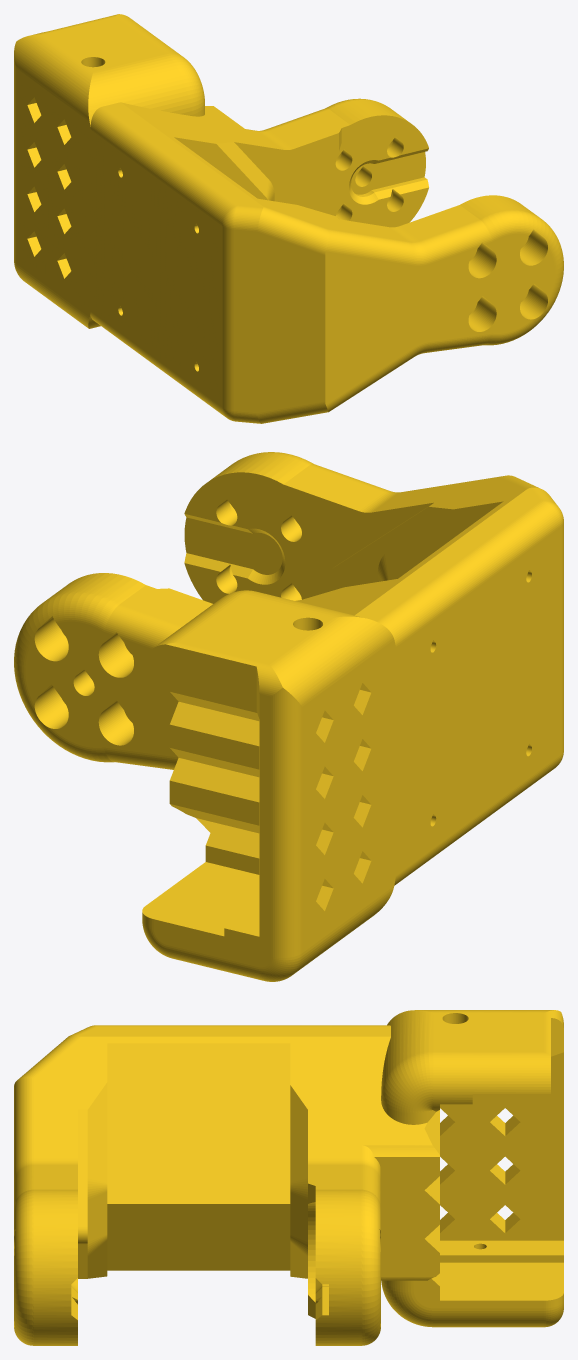
File: rotation_pitch_so101_v1_stl.dae
3 renders of one model, top to bottom at view 1: azimuth 30°, elevation 25°; view 2: azimuth 150°, elevation 25°; view 3: azimuth 270°, elevation 25°, orthographic. The views are drawn at different scales.
Parts seen in each view (by area): view 1: node0; view 2: node0; view 3: node0.
Part boxes in pixels (x1=…): node0: x1=14, y1=14, x2=563, y2=423; node0: x1=14, y1=452, x2=563, y2=981; node0: x1=14, y1=1010, x2=563, y2=1345.
Size of the model in its own units: 0.0598 by 0.0842 by 0.046.
